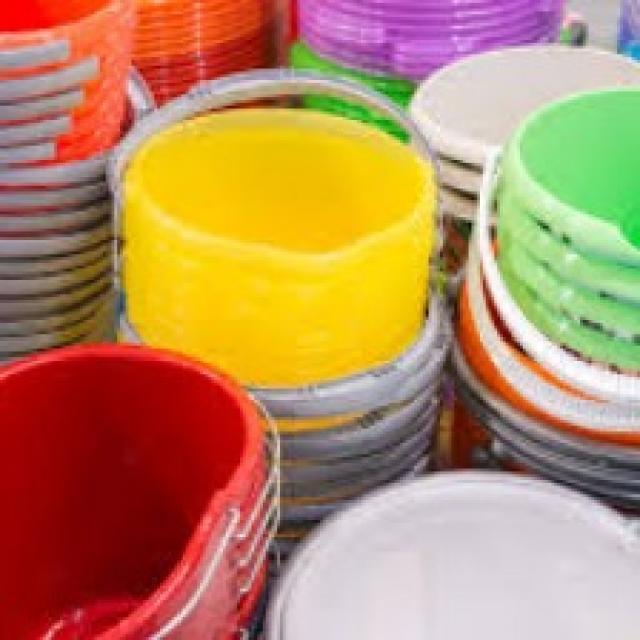plastic: (119, 70, 438, 383), (1, 335, 244, 640)
